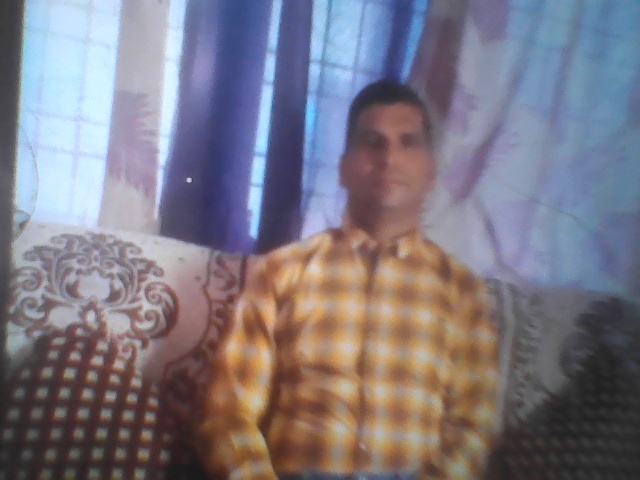fake: (333, 46, 463, 231)
